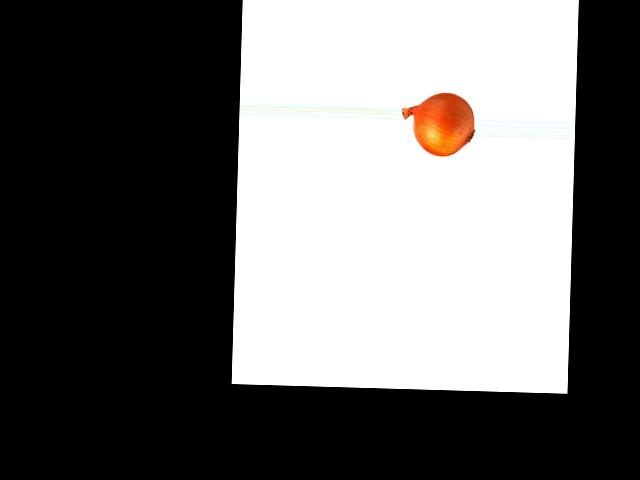onion: (409, 90, 474, 157)
